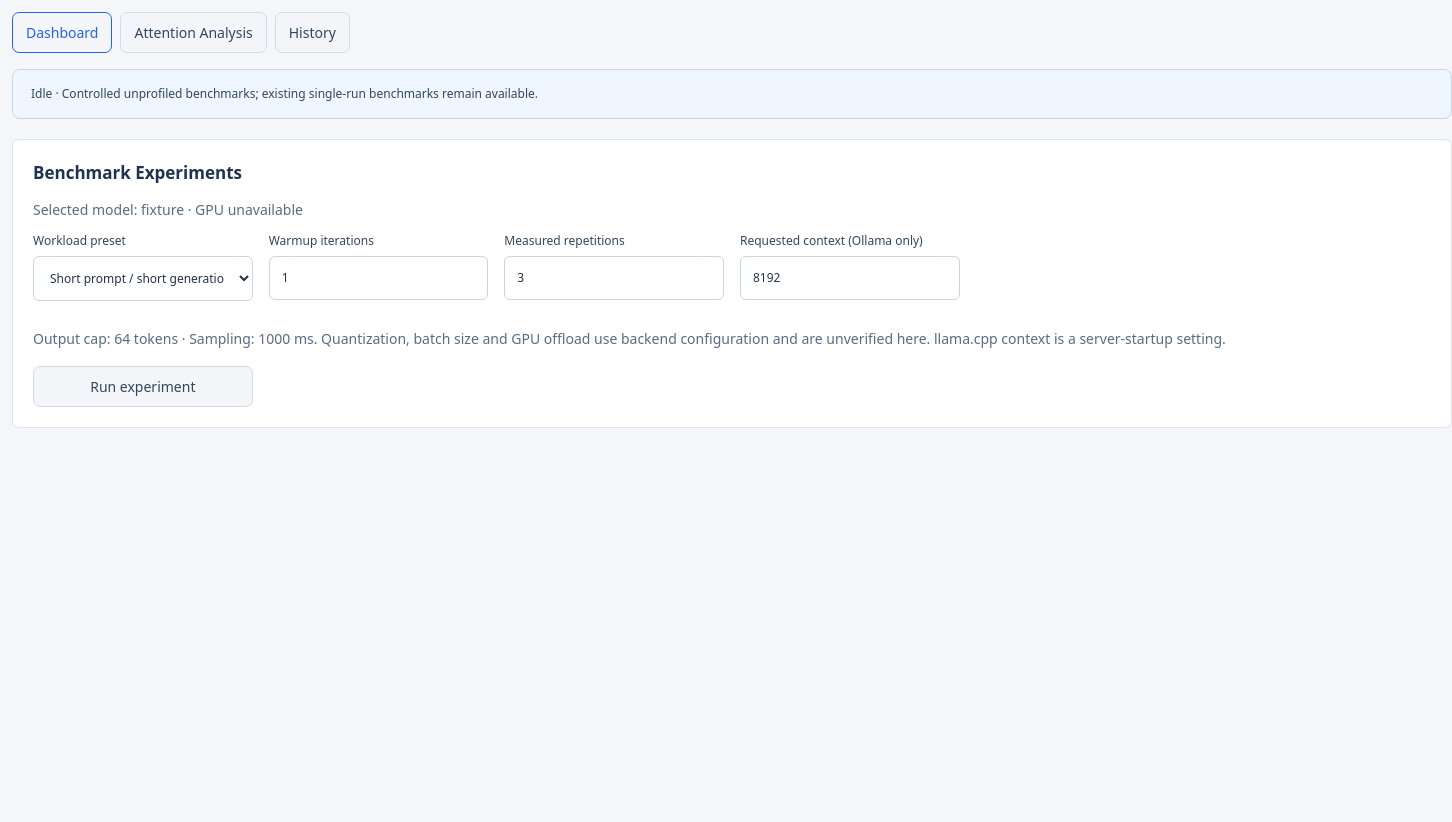
Test: executes warmups and measured repetitions sequentially and saves raw trials
Click the button "Run experiment" at (143, 387), box [33,366,253,408]
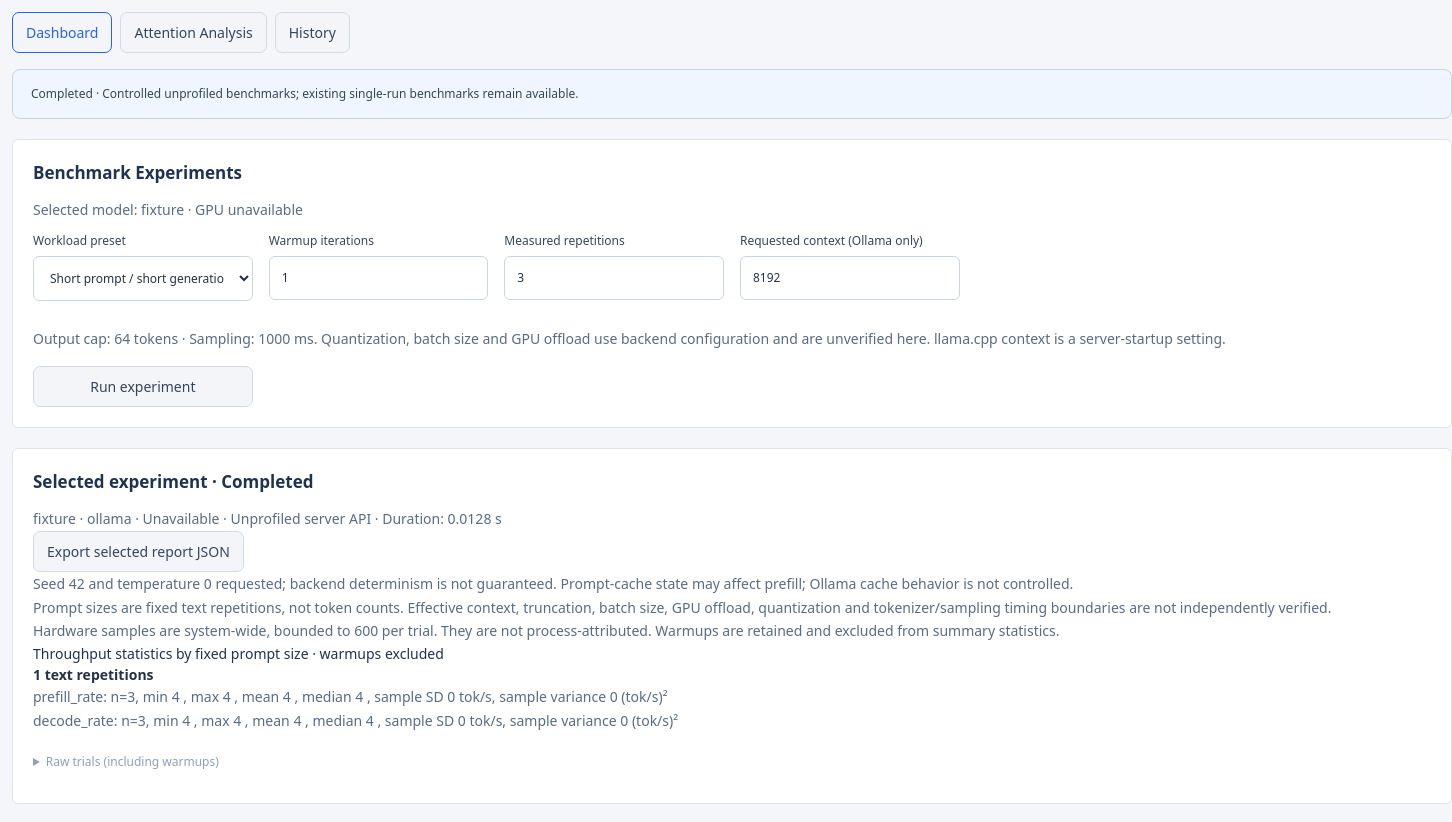
Expected: the heading "Selected experiment · Completed" is shown, [33,470,314,494]
Expected: the text "n=3" is shown 2 times, [33,687,668,706]; [33,711,678,730]
